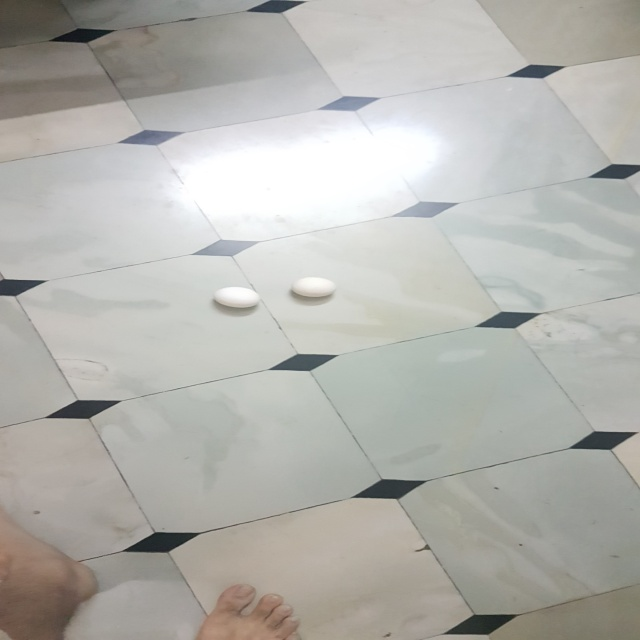eggs: (211, 285, 262, 314), (290, 274, 338, 300)
